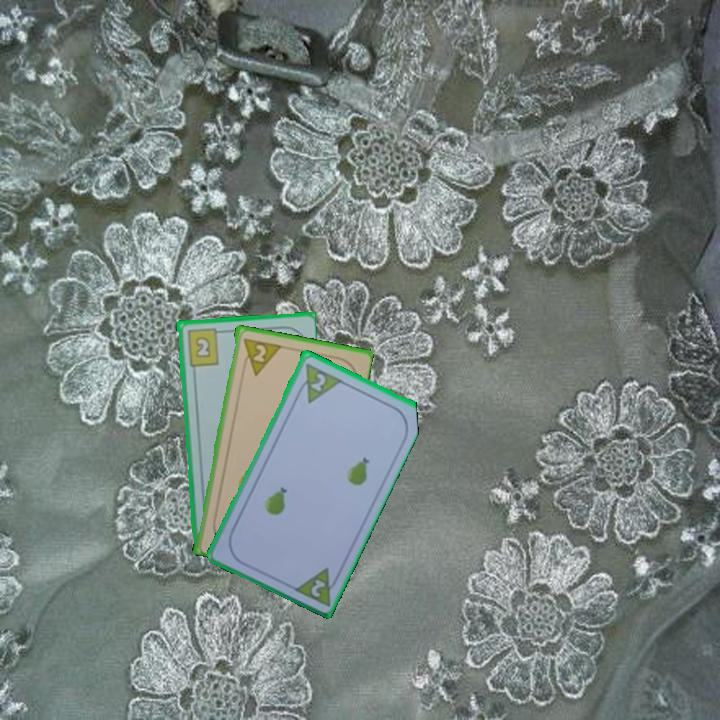2b: (183, 325, 225, 368)
2p: (289, 563, 343, 609), (239, 334, 282, 378), (306, 369, 329, 394)
